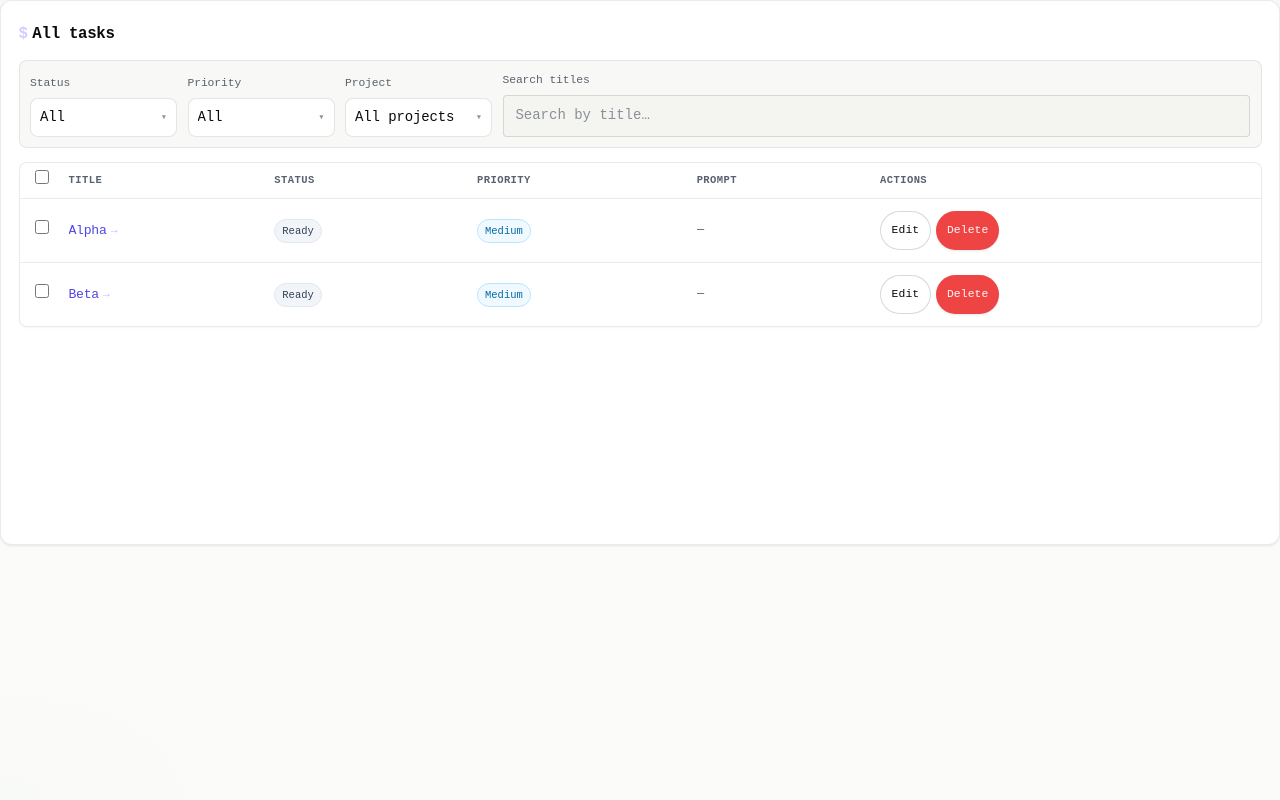
TaskListSection › bulk reschedule › Clear schedule button is disabled when no selected row has a schedule
This screenshot has width=1280, height=800.
What coordinates should you click on to do the following:
click the checkbox with test id "task-list-select-all"
I would click on:
 (42, 177)
Its box is [35,170,49,184].
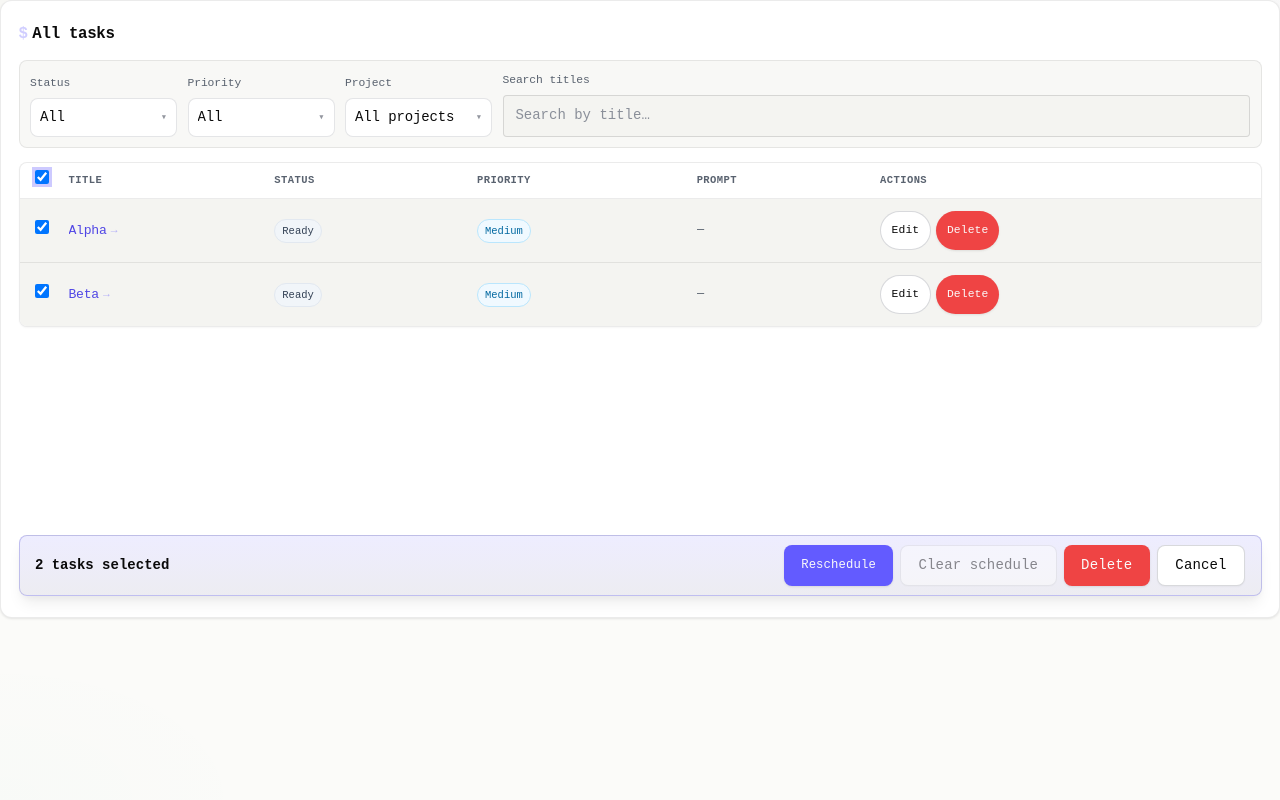
Expected: the button with test id "task-list-bulk-bar-clear" is disabled, [900,545,1057,586]
